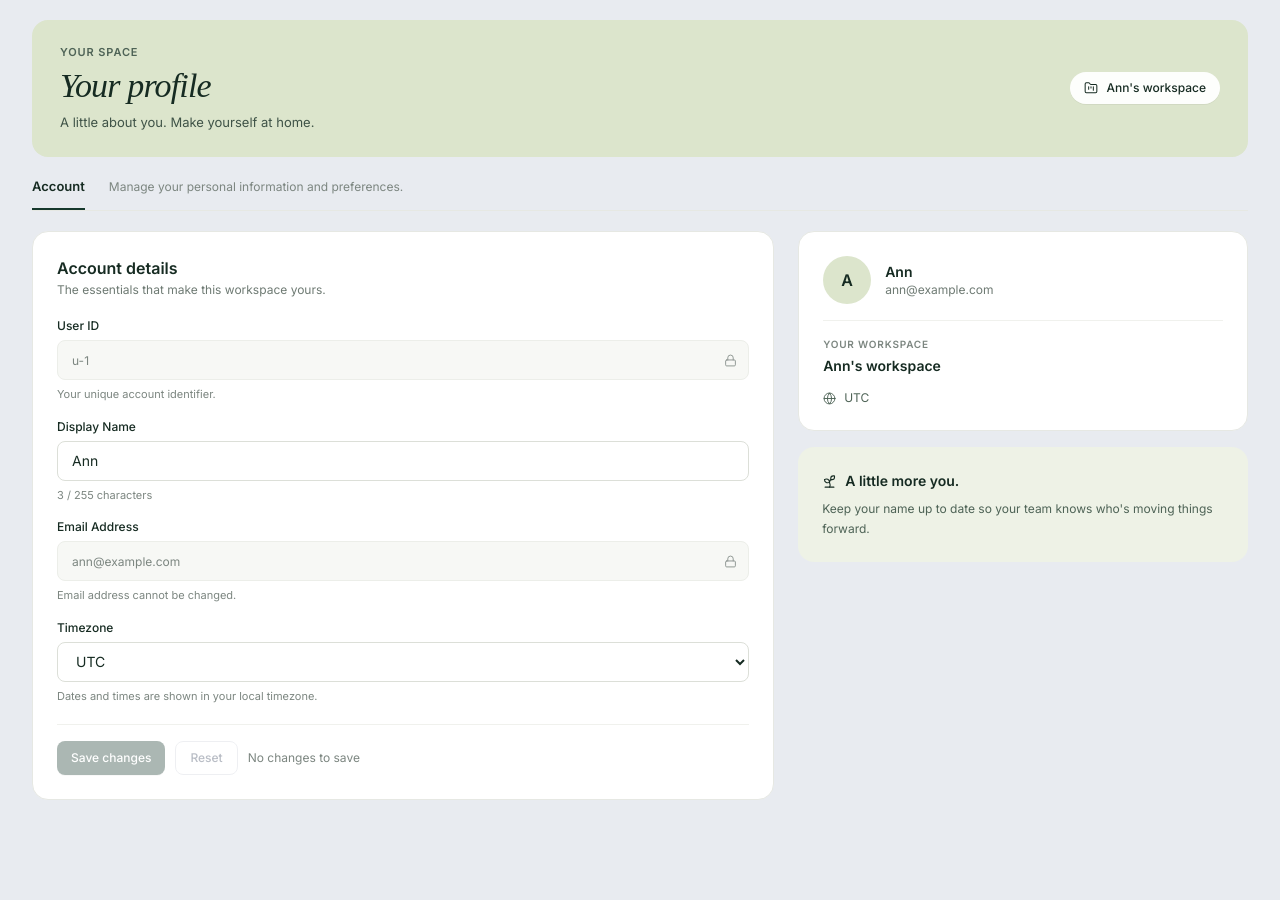
Scenario: ProfilePage › unsaved changes, reset, counter and avatar › disables Save and Reset with an explanation when clean, enables them after a change
The width and height of the screenshot is (1280, 900).
Check: the button "Save changes" is disabled, box [57,741,165,775]
Check: the button "Reset" is disabled, box [175,741,238,775]
Type "x" into the field labelled "Display Name" at [403, 460], box [57,440,749,480]
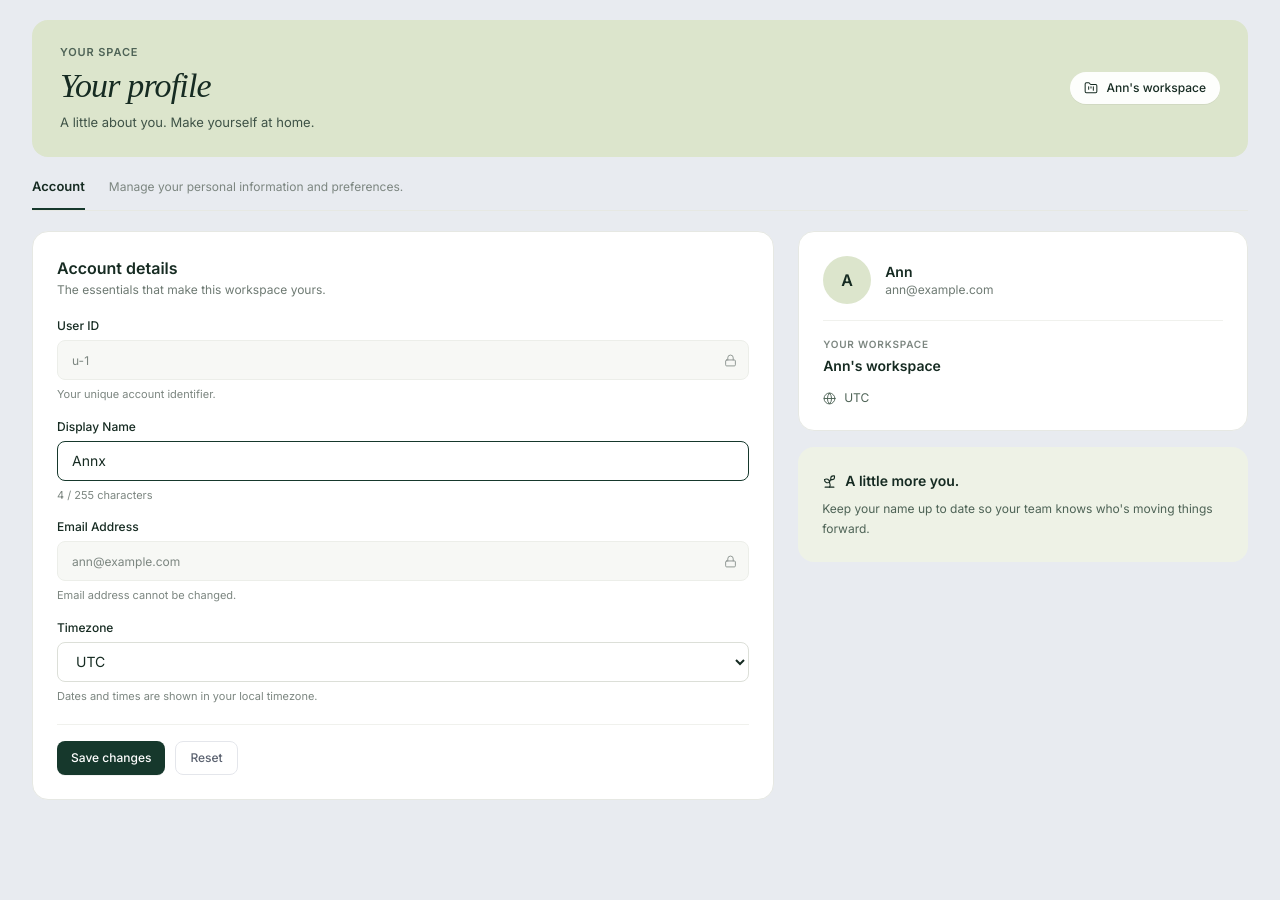
Check: the button "Save changes" is enabled, box [57,741,165,775]
Check: the button "Reset" is enabled, box [175,741,238,775]
Check: the text "No changes to save" is gone
